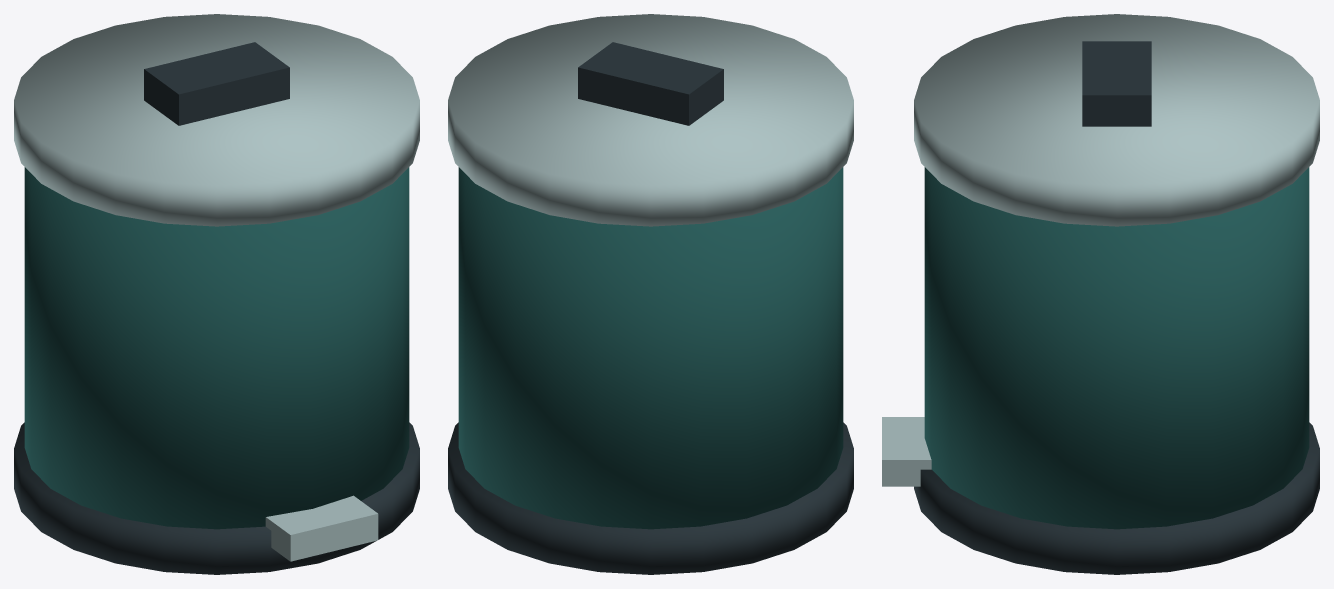
3 views of the same model, side by side, from view 1: azimuth 30°, elevation 25°; view 2: azimuth 150°, elevation 25°; view 3: azimuth 270°, elevation 25° (orthographic).
Visible parts, largest first — view 1: Waste can body, Rolled lid, Rubber plinth, Lid handle, Foot pedal; view 2: Waste can body, Rolled lid, Rubber plinth, Lid handle; view 3: Waste can body, Rolled lid, Rubber plinth, Lid handle, Foot pedal.
Part boxes in pixels (x1,y1,x2,y2): Waste can body: (24,167,409,529); Rolled lid: (14,14,419,226); Rubber plinth: (14,422,419,574); Lid handle: (144,42,289,125); Foot pedal: (265,495,378,561); Waste can body: (458,167,843,529); Rolled lid: (448,14,853,226); Rubber plinth: (448,422,853,574); Lid handle: (578,42,723,125); Waste can body: (924,167,1309,529); Rolled lid: (914,14,1319,226); Rubber plinth: (914,422,1319,574); Lid handle: (1082,41,1151,126); Foot pedal: (882,417,931,486).
Size of the model in its own units: 0.76 by 0.87 by 0.82.
